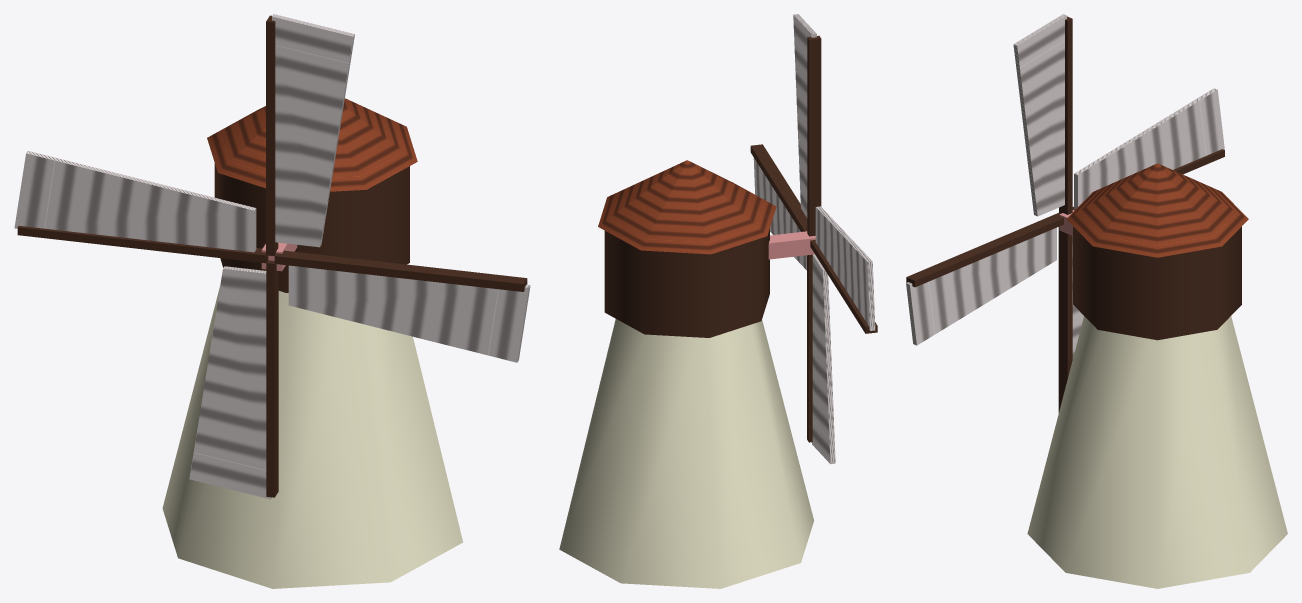
The model's file is netherlands.DAE.
The picture shows the model from 3 angles, left to right: view 1: azimuth 30°, elevation 25°; view 2: azimuth 150°, elevation 25°; view 3: azimuth 270°, elevation 25°; orthographic projection. The views are drawn at different scales.
Parts seen in each view (by area): view 1: Base, PropBlade003, PropBlade002, PropBlade, PropBlade001, Top, Roof, PropFork001, PropFork, PropFork003, PropFork002; view 2: Base, Top, Roof, PropBlade, PropBlade003, PropFork002, PropBlade002, PropFork001, PropBlade001, PropFork, Shaft, PropFork003; view 3: Base, Top, Roof, PropBlade002, PropBlade001, PropBlade003, PropFork, PropFork001, PropFork002.
Part boxes in pixels (box(x1,y1,x2,y2)): Base: box(162, 287, 463, 588); PropBlade003: box(14, 151, 256, 252); PropBlade002: box(272, 14, 354, 247); PropBlade: box(189, 266, 271, 499); PropBlade001: box(288, 265, 530, 362); Top: box(214, 163, 409, 292); Roof: box(207, 98, 417, 191); PropFork001: box(274, 250, 527, 291); PropFork: box(266, 260, 278, 497); PropFork003: box(17, 226, 268, 263); PropFork002: box(266, 15, 278, 255); Base: box(559, 319, 813, 588); Top: box(604, 228, 769, 337); Roof: box(598, 160, 776, 254); PropBlade: box(812, 254, 835, 464); PropBlade003: box(815, 206, 875, 330); PropFork002: box(807, 35, 821, 236); PropBlade002: box(793, 14, 816, 217); PropFork001: box(750, 144, 807, 231); PropBlade001: box(753, 157, 806, 270); PropFork: box(807, 254, 812, 442); Shaft: box(768, 231, 815, 259); PropFork003: box(810, 240, 877, 333); Base: box(1027, 316, 1287, 588); Top: box(1073, 226, 1241, 340); Roof: box(1066, 163, 1248, 257); PropBlade002: box(1013, 14, 1066, 216); PropBlade001: box(906, 227, 1056, 345); PropBlade003: box(1074, 88, 1224, 208); PropFork: box(1058, 227, 1072, 412); PropFork001: box(906, 213, 1063, 287); PropFork002: box(1059, 16, 1072, 214).
Bounding box in the file's own units: 11.07 × 11.07 × 15.35.
12 materials, 11 textured.
